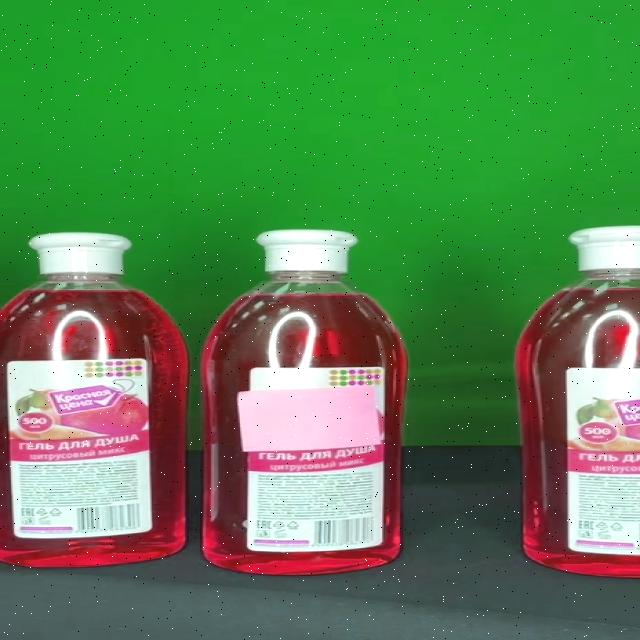Bottle: (206, 230, 406, 574), (0, 231, 188, 568)
Cap: (255, 230, 358, 273), (29, 232, 133, 274)
